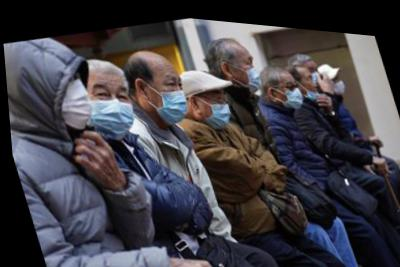OK: (78, 71, 142, 145), (46, 65, 98, 134), (141, 62, 193, 126), (196, 81, 235, 129), (229, 44, 263, 90), (272, 67, 305, 107), (304, 56, 324, 85), (329, 66, 346, 90)
WRONG: (297, 63, 321, 97)
